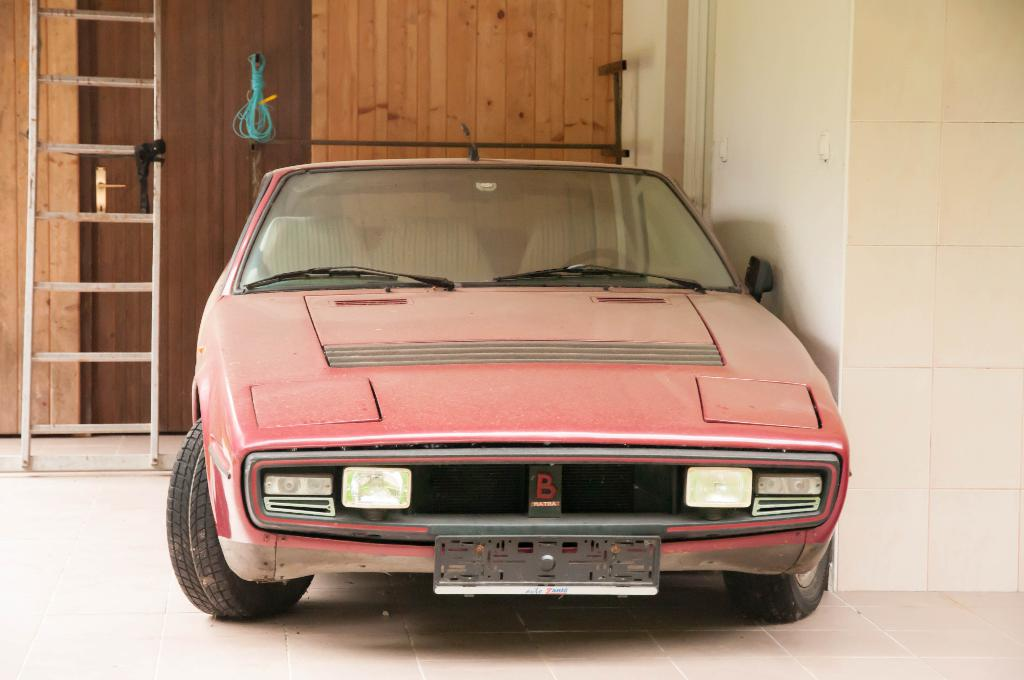Car: (168, 126, 852, 619)
